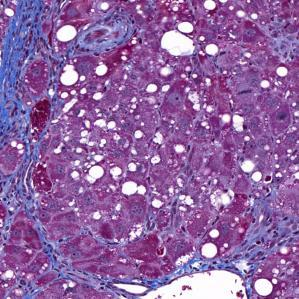fibrosis: (6, 9, 56, 143), (238, 202, 294, 276)
